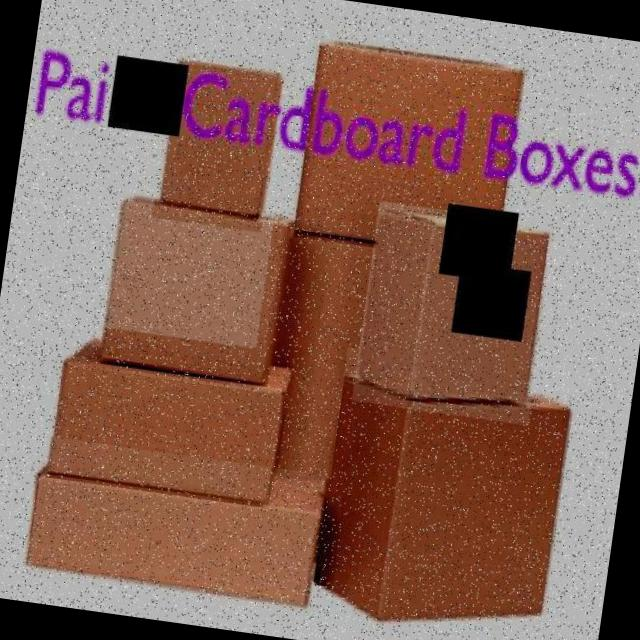box: (308, 347, 589, 640), (286, 24, 550, 278), (6, 434, 335, 636), (233, 195, 415, 529), (38, 322, 306, 516), (352, 200, 556, 426), (88, 184, 302, 389), (152, 44, 286, 232)
